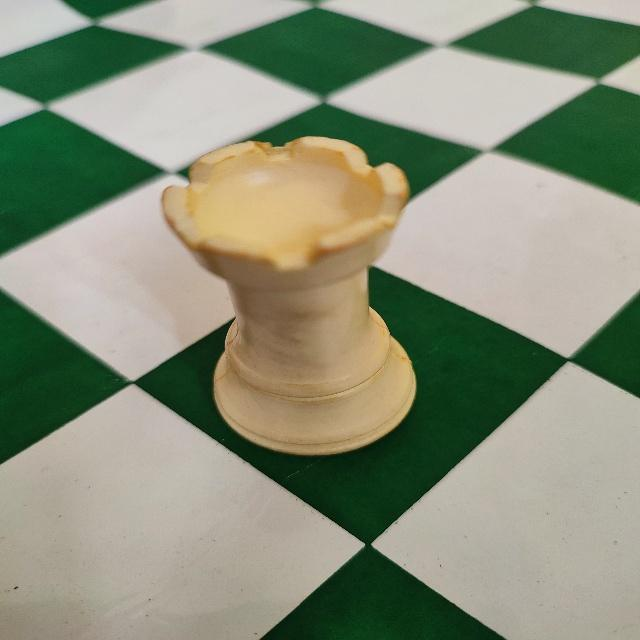Rook: (148, 130, 443, 458)
